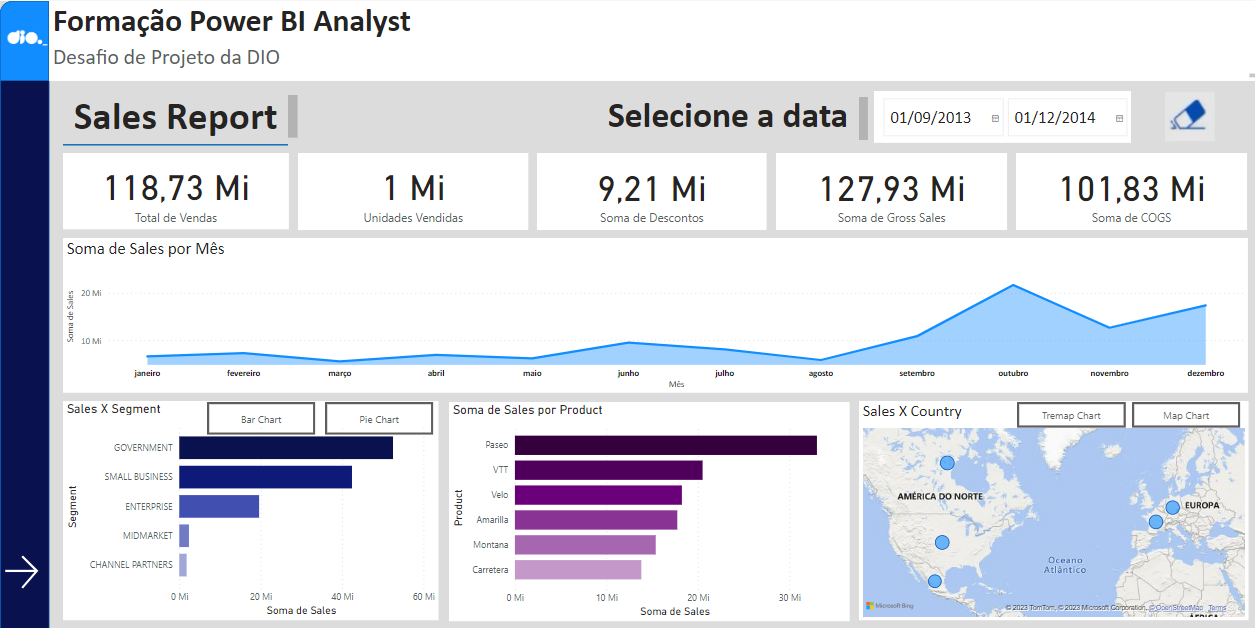

Layout of this report page (visuals, bound fields, positions):
{"tool":"powerbi","page":{"name":"Formação Power BI Analyst","canvas":[1700,850],"ordinal":4},"visuals":[{"type":"slicer","fields":{"Values":["financials.Date"]},"box":[1179.9,121.3,347.4,69.8],"z":0,"group":"g1"},{"type":"stackedAreaChart","fields":{"Category":["financials.Date.Variation.Hierarquia de datas.Mês"],"Y":["Sum(financials. Sales)"]},"box":[85.4,319.4,1600,209.3],"z":0},{"type":"textbox","title":"Selecione a data","box":[815.4,119,356,76],"z":1000,"group":"g1"},{"type":"clusteredBarChart","fields":{"Category":["financials.Product"],"Y":["Sum(financials. Sales)"]},"box":[606,540.8,541.4,295.8],"z":1000},{"type":"clusteredBarChart","title":"Sales X Segment","fields":{"Category":["financials.Segment"],"Y":["Sum(financials. Sales)"]},"box":[85.4,540.8,506.8,295.8],"z":1250,"group":"g4"},{"type":"actionButton","title":"Botão - bar","box":[279.2,542.1,146.2,44.2],"z":1500,"group":"g4"},{"type":"shape","box":[0,0,66.9,850],"z":2000,"group":"g2"},{"type":"group","id":"g1","title":"Filtro por data","box":[815.4,117.3,869.3,77.7],"z":2000},{"type":"actionButton","title":"Botão - pie","box":[439,542.1,146.2,44.2],"z":2000,"group":"g4"},{"type":"group","id":"g2","title":"Cartões","box":[0,0,1700,850.9],"z":3000},{"type":"image","title":"BORRACHA_IMG","box":[1526.6,117.3,158.1,76.5],"z":3000,"group":"g1"},{"type":"shape","box":[85.4,187.6,303.8,13],"z":3000,"group":"g2"},{"type":"map","title":"Sales X Country","fields":{"Category":["financials.Country"],"Size":["Sum(financials. Sales)"]},"box":[1159.4,541,526,296],"z":3125,"group":"g3"},{"type":"actionButton","title":"Botão - map","box":[1528.5,542.1,146.2,34.6],"z":3250,"group":"g3"},{"type":"actionButton","box":[1564,120.7,79.9,73.1],"z":3500,"group":"g1"},{"type":"actionButton","title":"Botão - tremap","box":[1373.1,542.1,146.9,34.6],"z":3500,"group":"g3"},{"type":"shape","box":[389.2,127.1,13,57.6],"z":4000,"group":"g2"},{"type":"group","id":"g3","title":"Sales X País","box":[1159.4,540.6,526,296.4],"z":4000},{"type":"shape","box":[1159.4,129,12,58],"z":5000,"group":"g2"},{"type":"group","id":"g4","title":"Sales X Segment","box":[85,540.6,507.2,296],"z":5000},{"type":"card","fields":{"Values":["Sum(financials. Sales)"]},"box":[85.4,205.4,305,103.3],"z":6000,"group":"g2"},{"type":"actionButton","title":"Botão - Avançar","box":[0,742.5,67.5,56.8],"z":6000},{"type":"card","fields":{"Values":["Sum(financials.Units Sold)"]},"box":[402.2,204.9,311,103.7],"z":7000,"group":"g2"},{"type":"card","fields":{"Values":["Sum(financials.Discounts)"]},"box":[725.4,205,310,104],"z":8000,"group":"g2"},{"type":"card","fields":{"Values":["Sum(financials.Gross Sales)"]},"box":[1047.4,205,312,104],"z":9000,"group":"g2"},{"type":"card","fields":{"Values":["Sum(financials.COGS)"]},"box":[1371.4,205,312,104],"z":10000,"group":"g2"},{"type":"textbox","title":"Sales Report","box":[85.4,117,304.5,87.9],"z":10250,"group":"g2"},{"type":"textbox","title":"Formação Power BI Analyst","box":[66.2,0,1633.8,107.5],"z":10500,"group":"g2"},{"type":"shape","box":[0,0,65.9,107.7],"z":10750,"group":"g2"},{"type":"image","title":"LOGO_DIO","box":[3.4,17,66.3,62.9],"z":11000,"group":"g2"}]}

Visuals, with their boxes on the page's 1700x850 design canvas (x1, y1, x2, y2). These are canvas units, not pixel positions in the 1255x628 screenshot, which may show the page scaled, cropped or inside an application window:
slicer - financials.Date: 1180, 121, 1527, 191
stackedAreaChart - financials.Date.Variation.Hierarquia de datas.Mês x Sum(financials. Sales): 85, 319, 1685, 529
"Selecione a data" textbox: 815, 119, 1171, 195
clusteredBarChart - financials.Product x Sum(financials. Sales): 606, 541, 1147, 837
"Sales X Segment" clusteredBarChart: 85, 541, 592, 837
"Botão - bar" actionButton: 279, 542, 425, 586
shape: 0, 0, 67, 850
"Filtro por data" group: 815, 117, 1685, 195
"Botão - pie" actionButton: 439, 542, 585, 586
"Cartões" group: 0, 0, 1700, 851
"BORRACHA_IMG" image: 1527, 117, 1685, 194
shape: 85, 188, 389, 201
"Sales X Country" map: 1159, 541, 1685, 837
"Botão - map" actionButton: 1528, 542, 1675, 577
actionButton: 1564, 121, 1644, 194
"Botão - tremap" actionButton: 1373, 542, 1520, 577
shape: 389, 127, 402, 185
"Sales X País" group: 1159, 541, 1685, 837
shape: 1159, 129, 1171, 187
"Sales X Segment" group: 85, 541, 592, 837
card - Sum(financials. Sales): 85, 205, 390, 309
"Botão - Avançar" actionButton: 0, 742, 68, 799
card - Sum(financials.Units Sold): 402, 205, 713, 309
card - Sum(financials.Discounts): 725, 205, 1035, 309
card - Sum(financials.Gross Sales): 1047, 205, 1359, 309
card - Sum(financials.COGS): 1371, 205, 1683, 309
"Sales Report" textbox: 85, 117, 390, 205
"Formação Power BI Analyst" textbox: 66, 0, 1700, 108
shape: 0, 0, 66, 108
"LOGO_DIO" image: 3, 17, 70, 80
